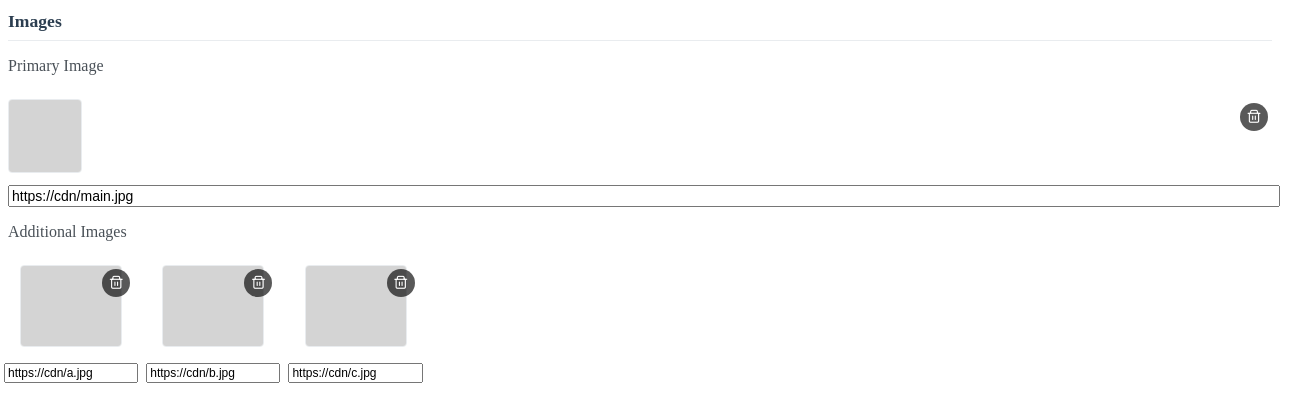
Test: ImageSectionComponent — removing images › removes the primary preview when its button is clicked
Click the 1st button with class "image-remove": (1254, 117) [1240,103,1268,131]
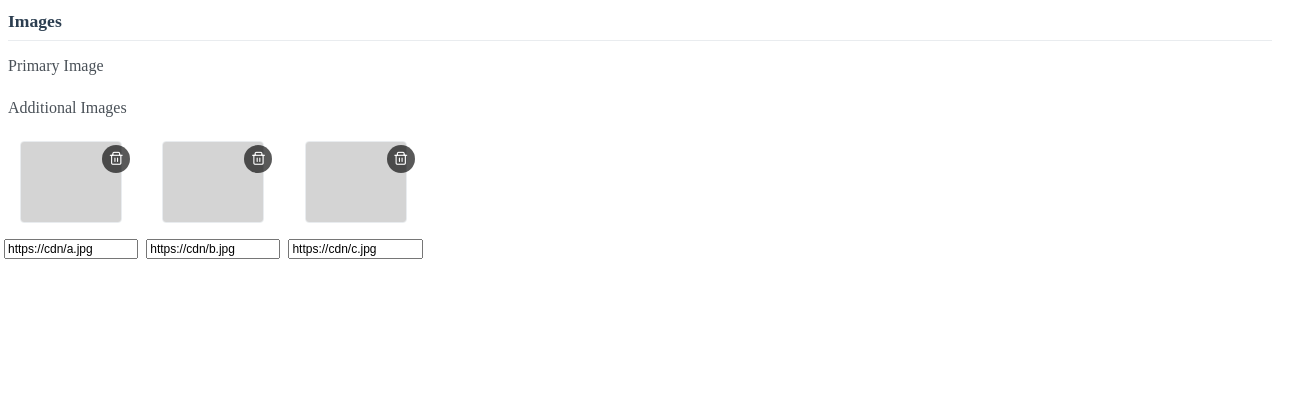
Now the element with class "image-preview" is gone
